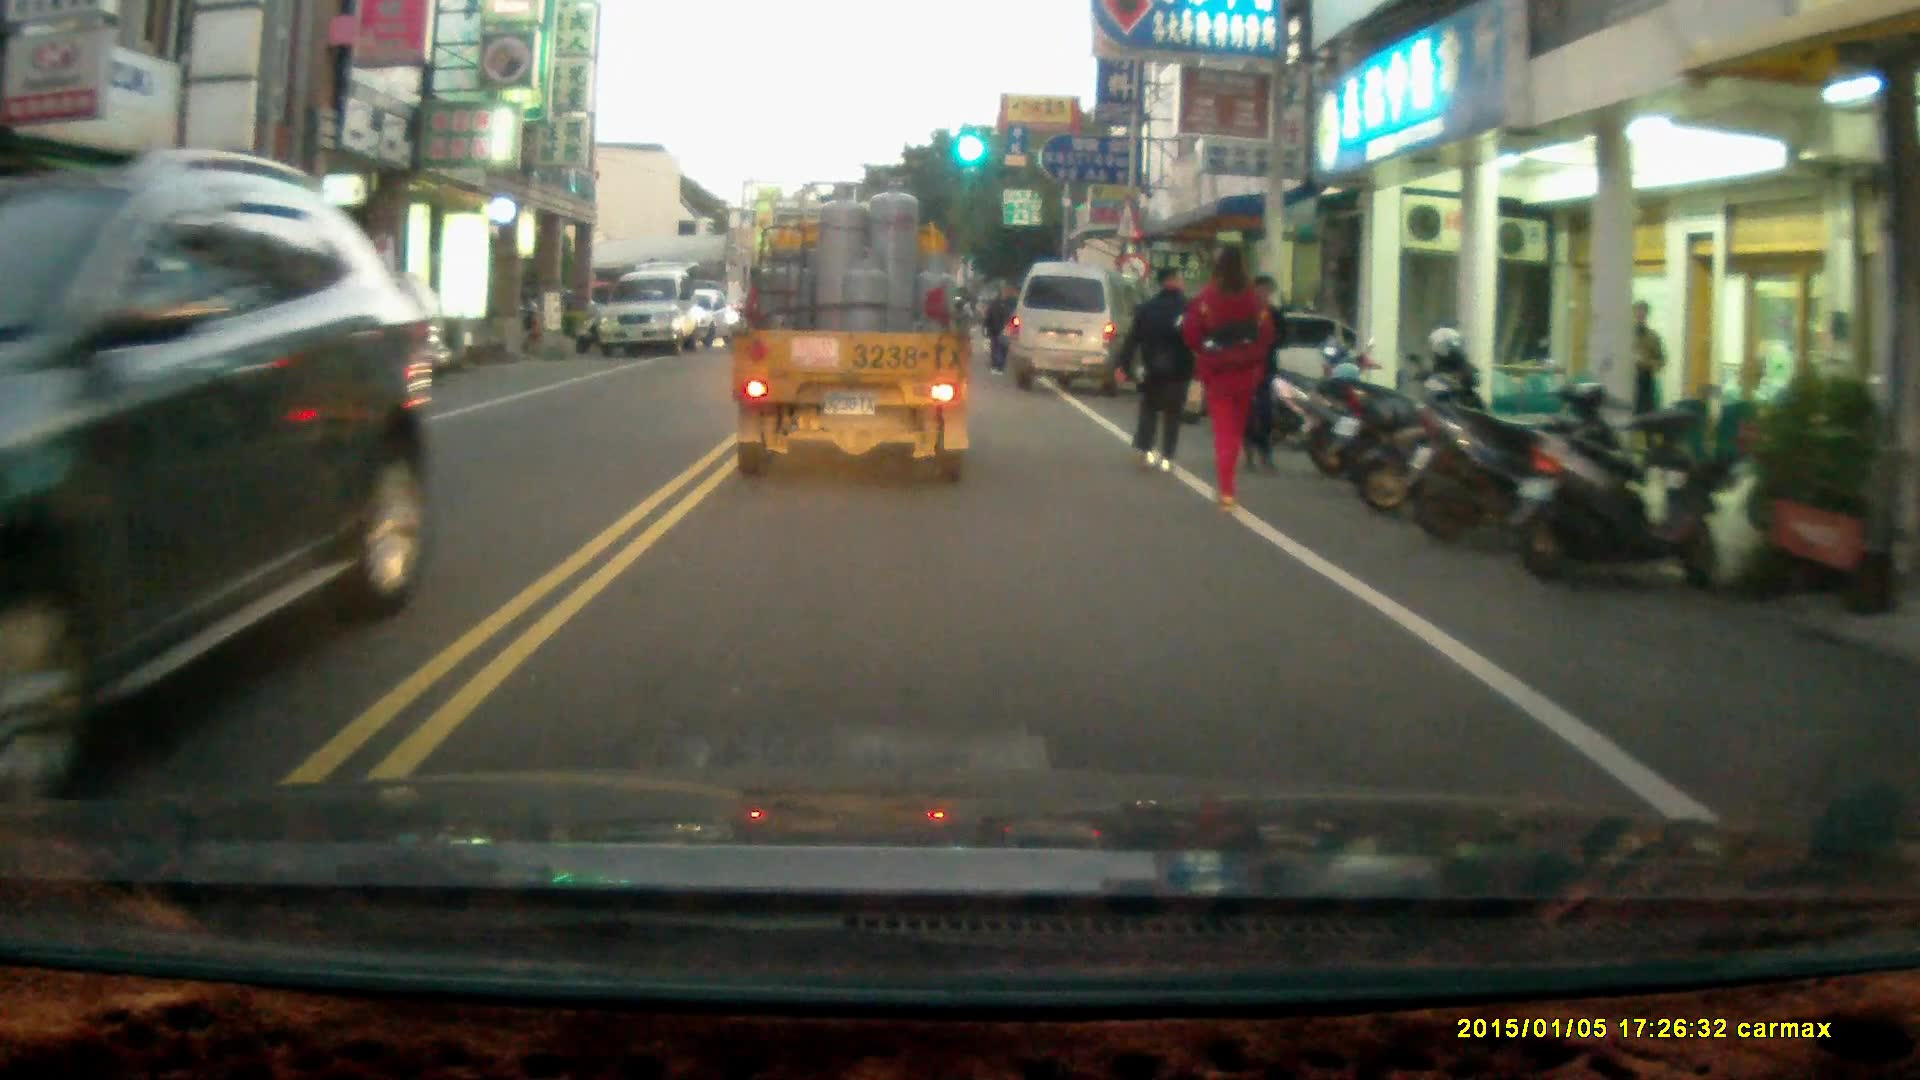pedestrian: (1186, 240, 1273, 521), (1123, 261, 1205, 473), (1231, 273, 1288, 480), (1625, 298, 1669, 454), (983, 286, 1017, 374)
vehicle: (1, 131, 442, 780), (724, 185, 981, 500), (170, 290, 446, 412), (1013, 261, 1149, 398), (600, 271, 711, 357)
